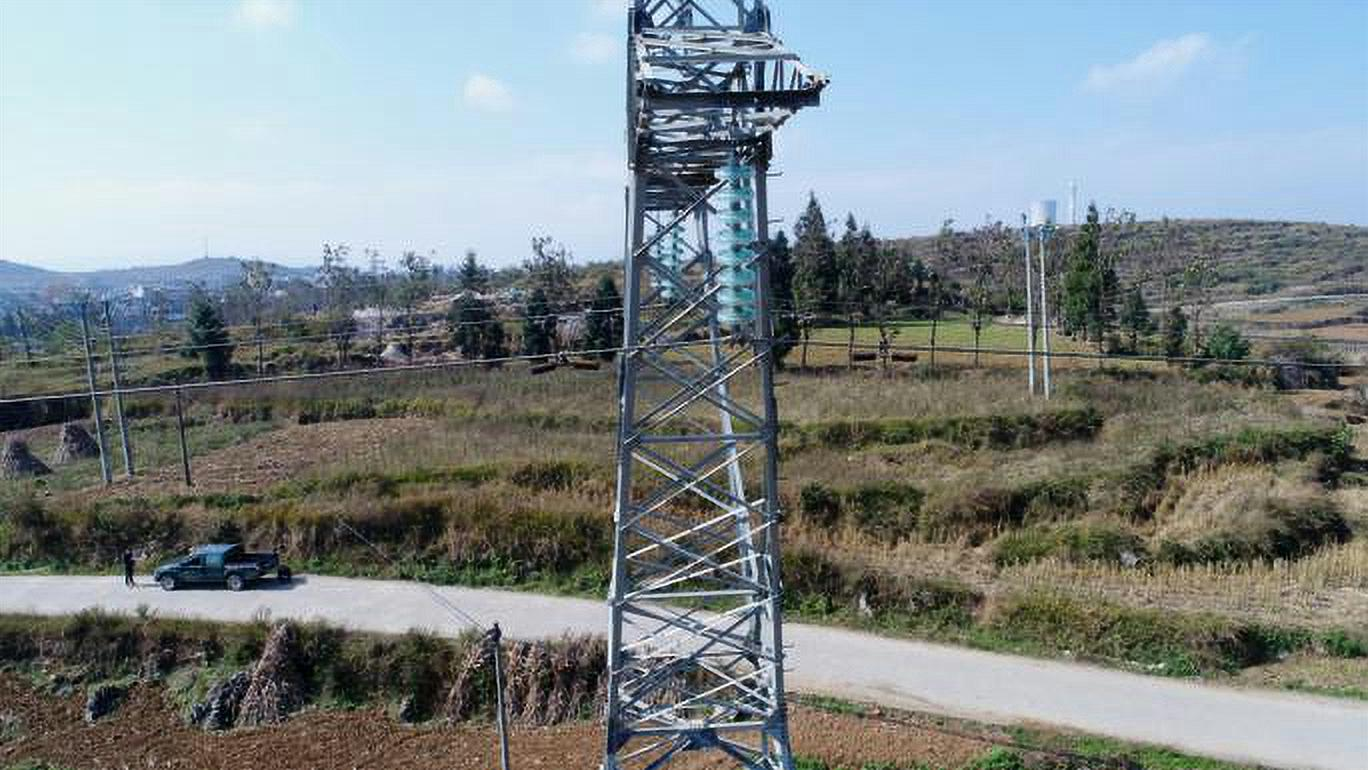insulator: (711, 160, 760, 333), (653, 205, 688, 306)
